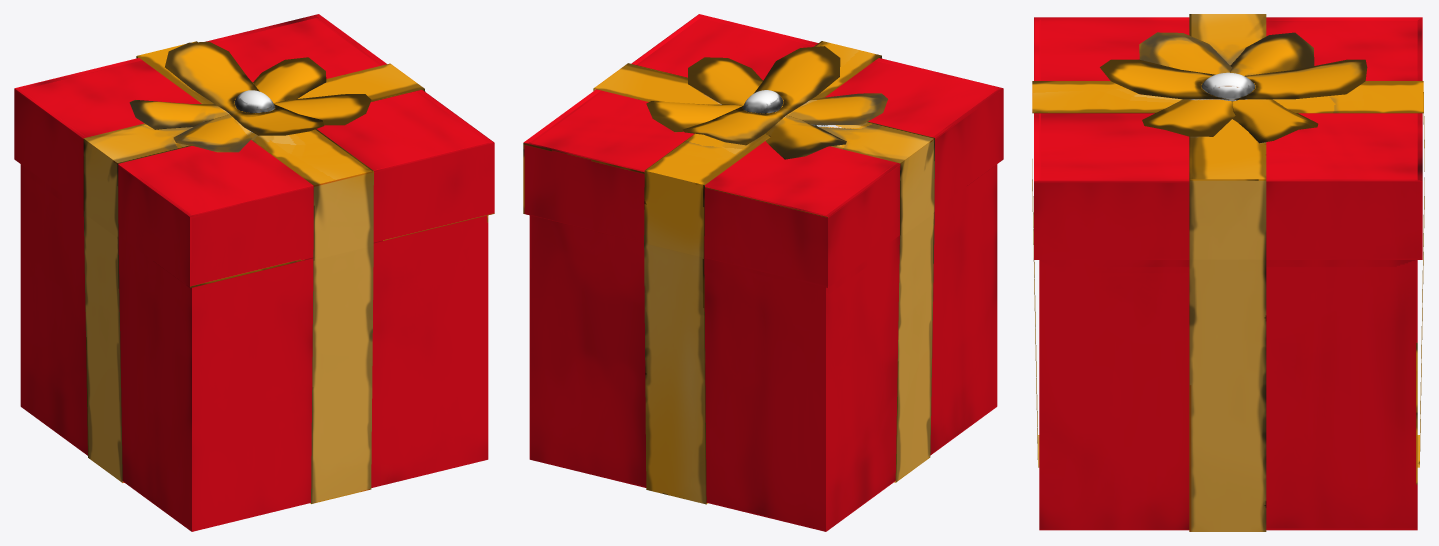
File: present.fbx
3 views of the same model, side by side, from view 1: azimuth 30°, elevation 25°; view 2: azimuth 150°, elevation 25°; view 3: azimuth 270°, elevation 25° (orthographic). The views are drawn at different scales.
Visible parts, largest first — view 1: Cube.000; view 2: Cube.000; view 3: Cube.000.
Part boxes in pixels (x1,y1,x2,y2): Cube.000: (14,14,494,531); Cube.000: (523,14,1003,531); Cube.000: (1032,14,1424,531).
Size of the model in its own units: 88.04 by 94.55 by 88.04.
2 materials, 2 textured.
